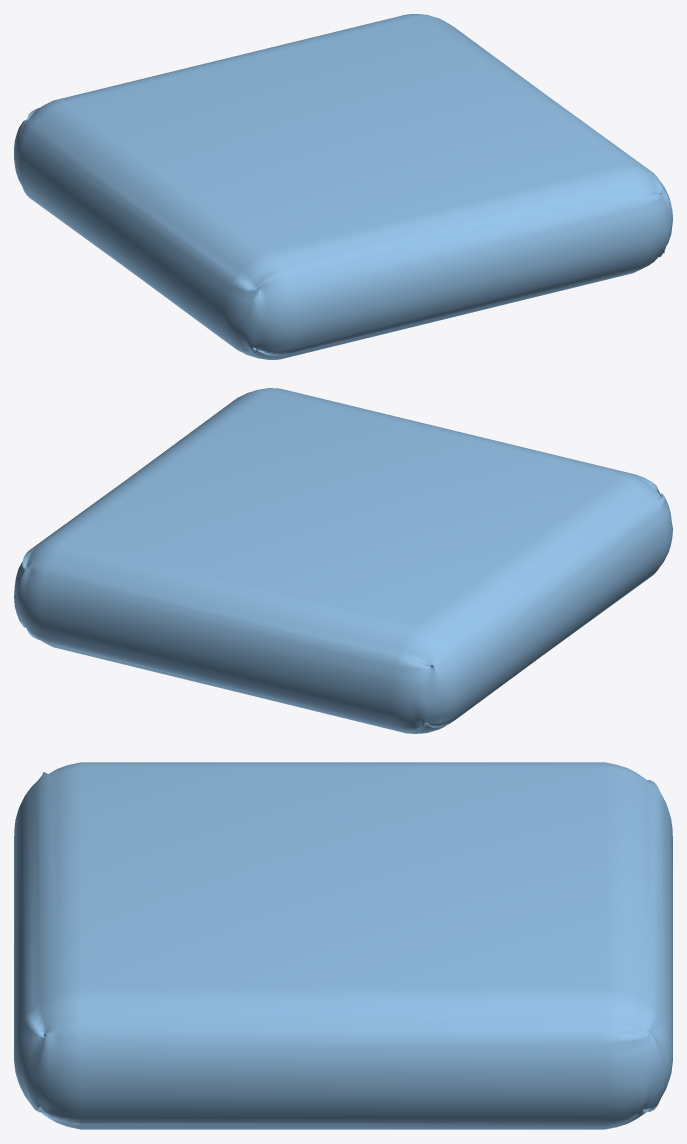
File: badge_python.glb
The picture shows the model from 3 angles, top to bottom: view 1: azimuth 30°, elevation 25°; view 2: azimuth 150°, elevation 25°; view 3: azimuth 270°, elevation 25°; orthographic projection. The views are drawn at different scales.
Parts seen in each view (by area): view 1: badge_python; view 2: badge_python; view 3: badge_python.
Boxes of the visible parts, x1=… form: badge_python: x1=14, y1=14, x2=672, y2=359; badge_python: x1=14, y1=388, x2=672, y2=733; badge_python: x1=14, y1=762, x2=672, y2=1129.
Size of the model in its own units: 1.54 by 0.3499 by 1.54.
